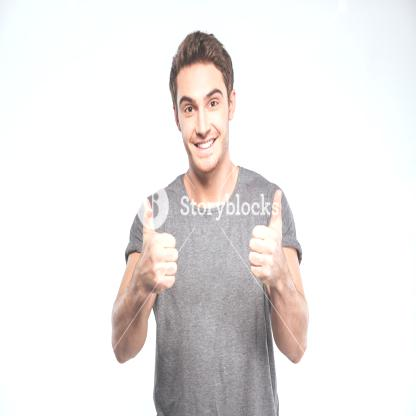Thumbs up: (119, 190, 183, 289), (246, 183, 284, 286)
